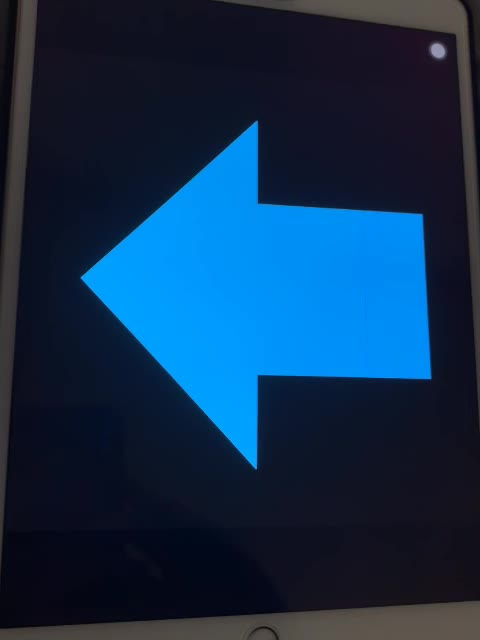left: (56, 99, 440, 483)
